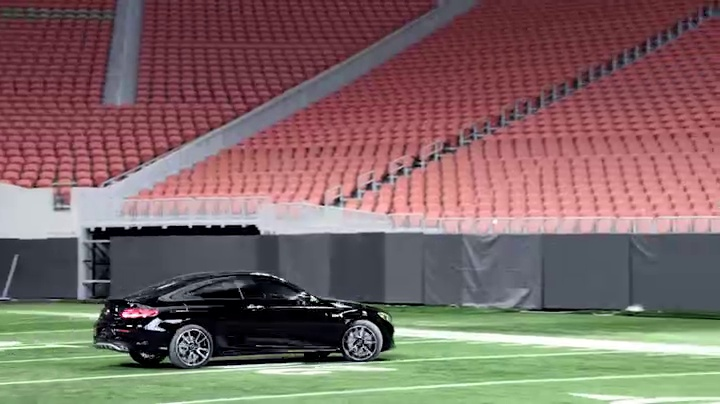amg: (94, 268, 398, 362)
